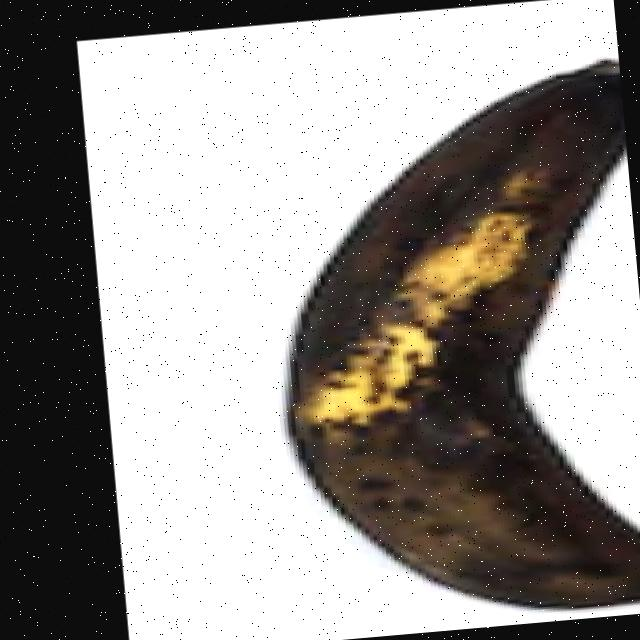Rotten: (250, 49, 640, 640)
